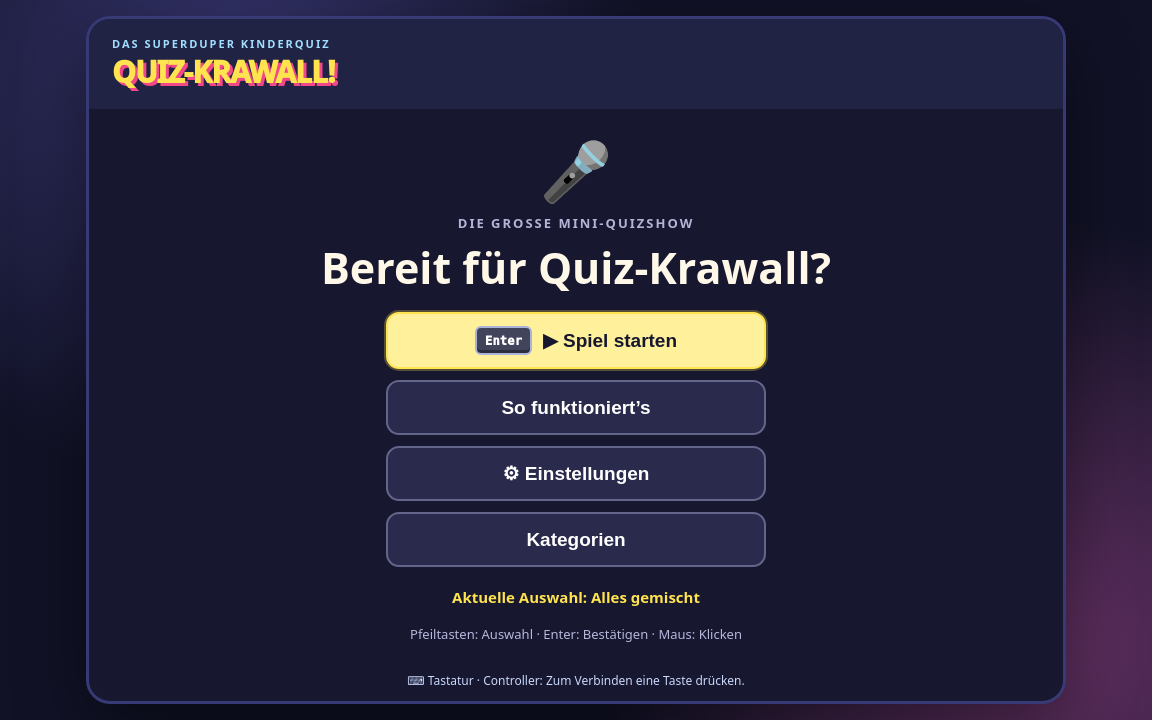
Test: quiz app interaction › does not answer twice and handles start and back navigation
Press Enter
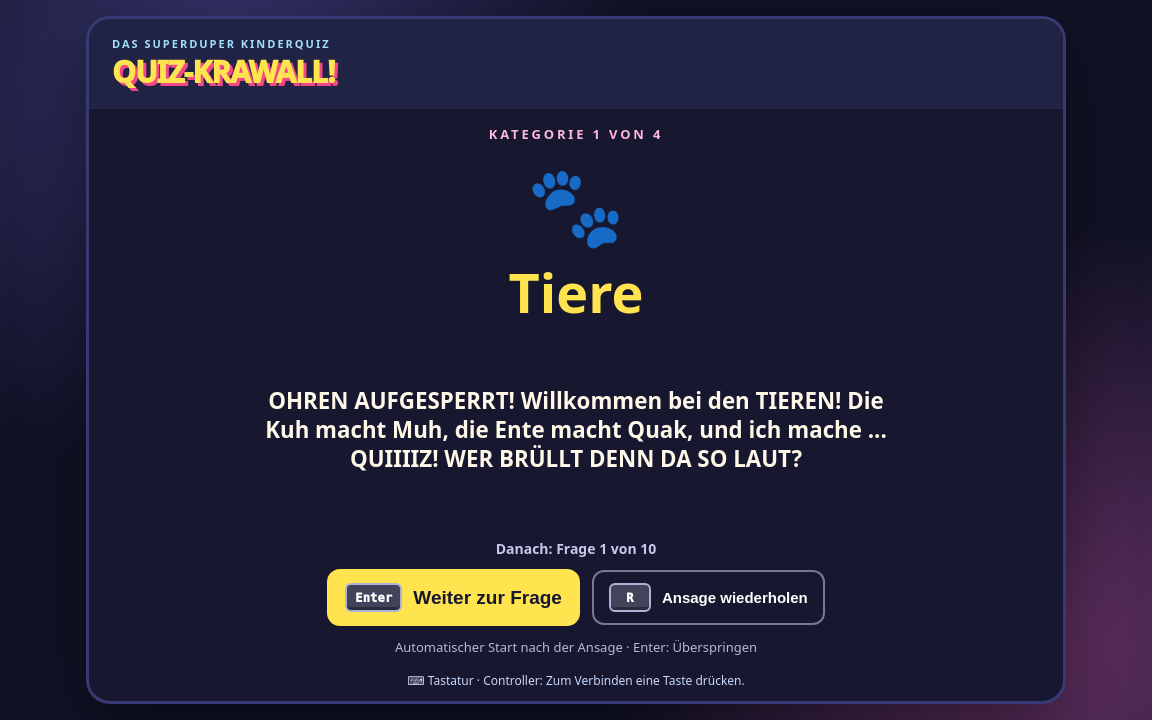
Press Enter
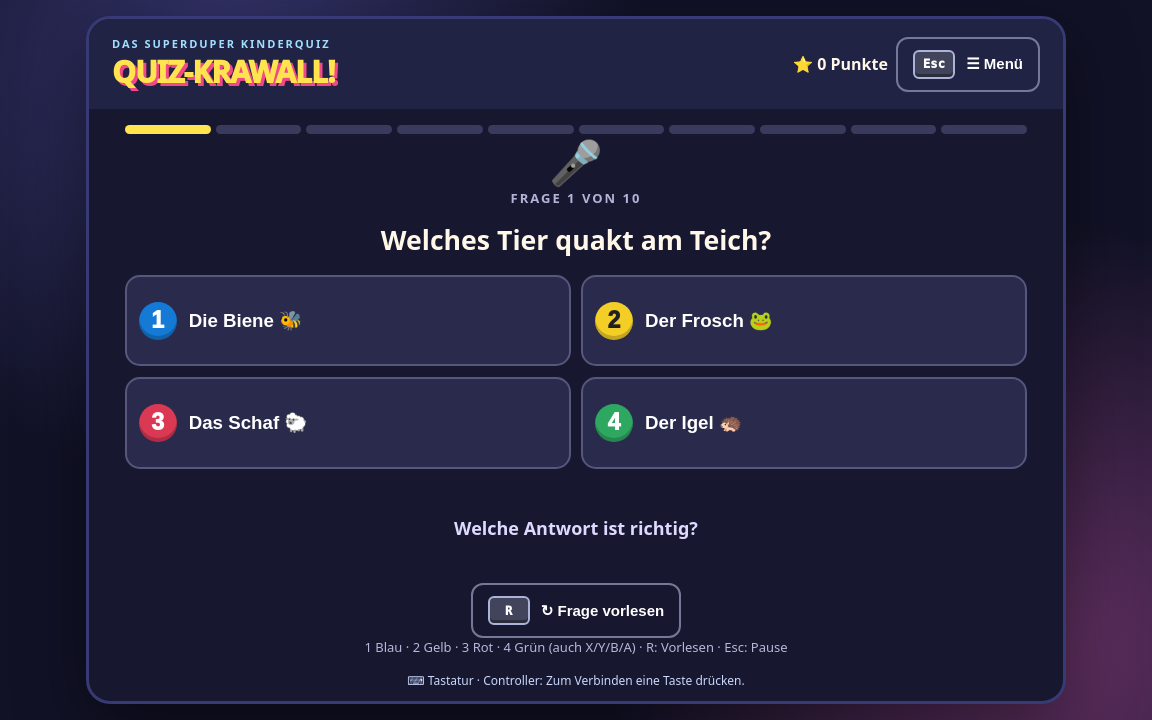
Press x
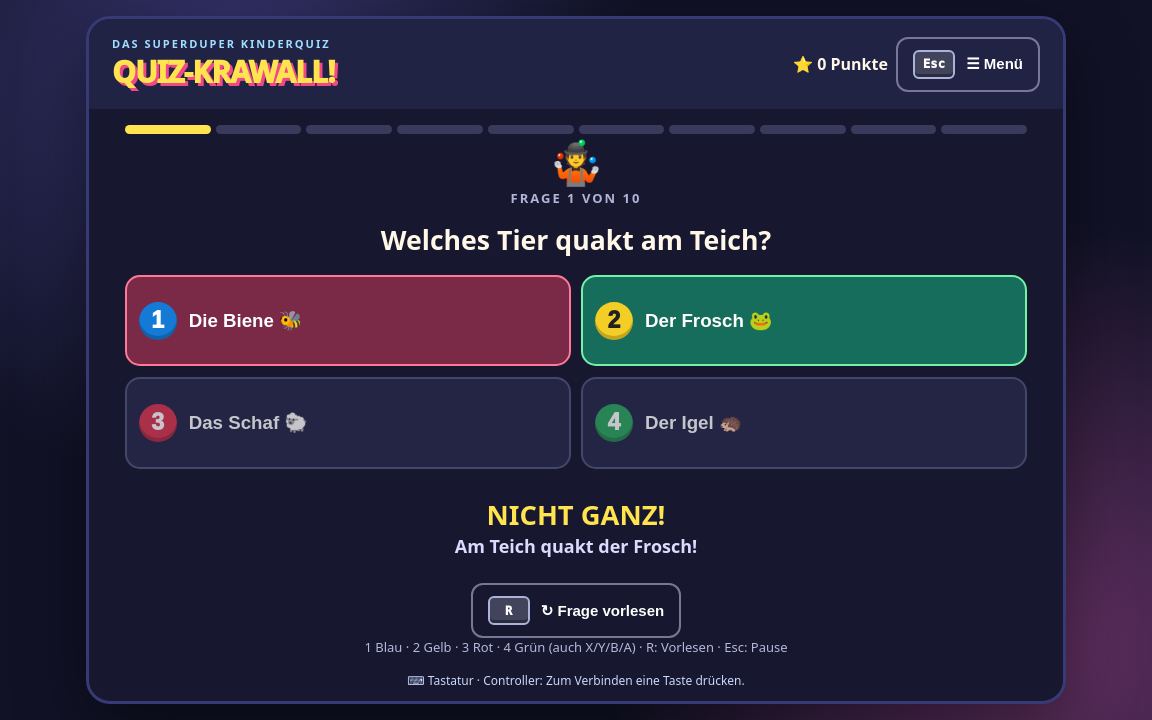
Press y
expect the text "NICHT GANZ!" is shown: met, box [487,500,665,530]
Press Escape
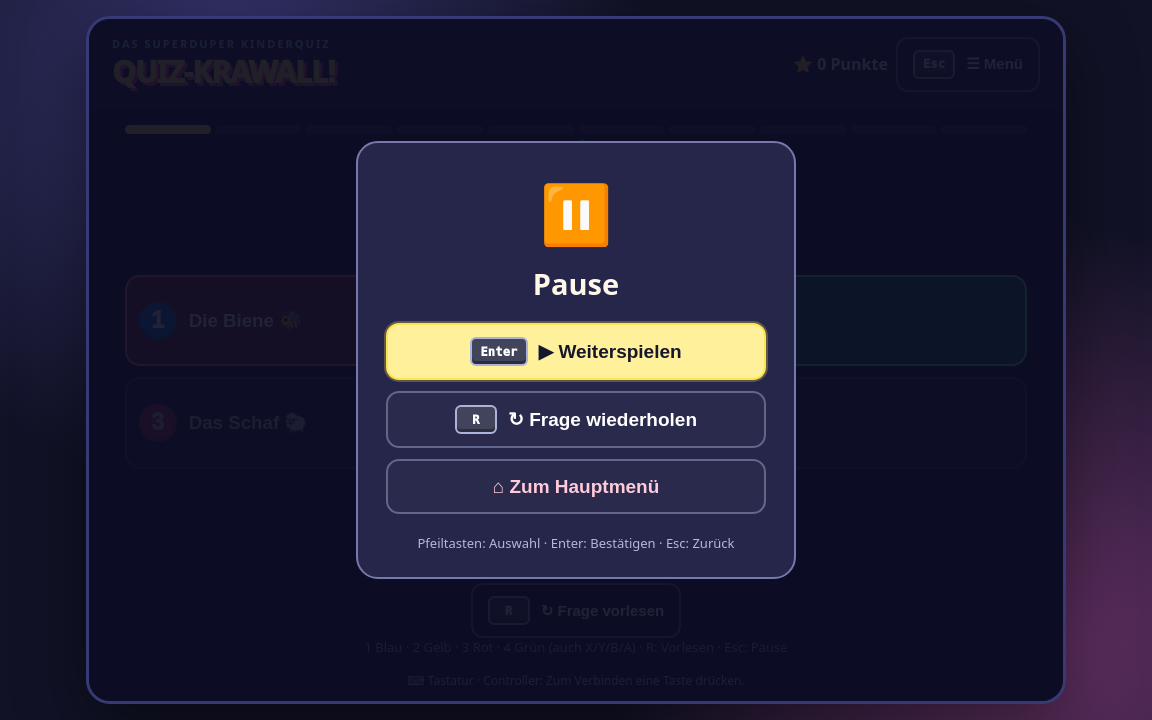
expect the heading "Pause" is shown: met, box [533,264,619,303]
Click the button "Enter ▶ Weiterspielen": (576, 352) [386,323,766,380]
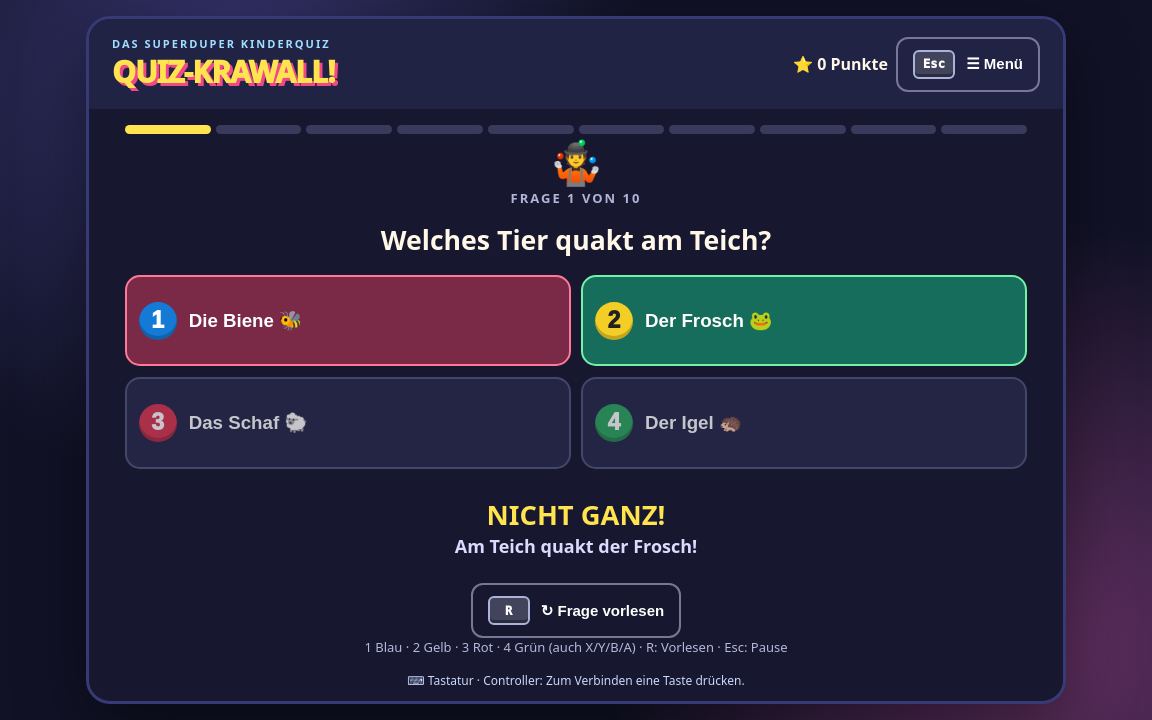
Press Enter
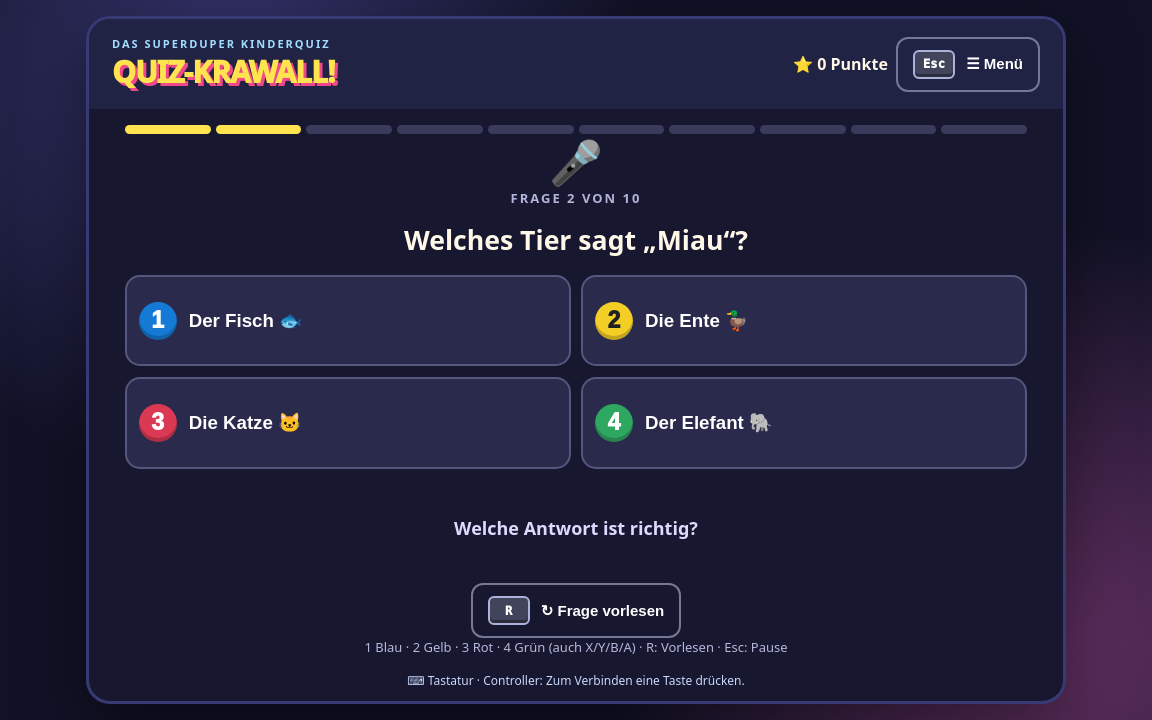
expect the text "Frage 2 von 10" is shown: met, box [511,190,641,208]
